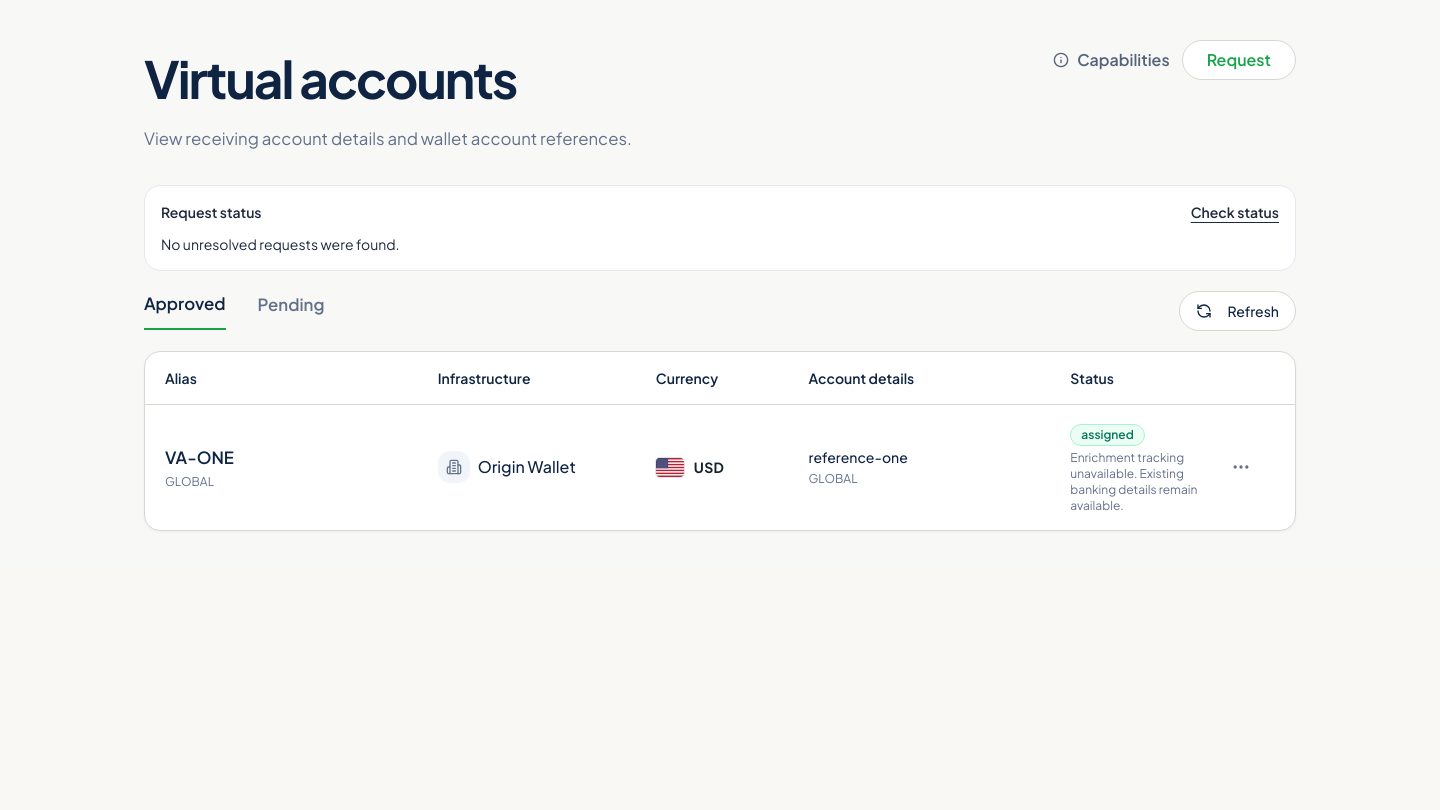
it: VA list and live banking details › keeps legacy details readable with enrichment null
What coordinates should you click on to do the following:
click the button named "View banking details for USD account 87"
I would click on:
 (1241, 467)
Its box is [1223,449,1259,485].
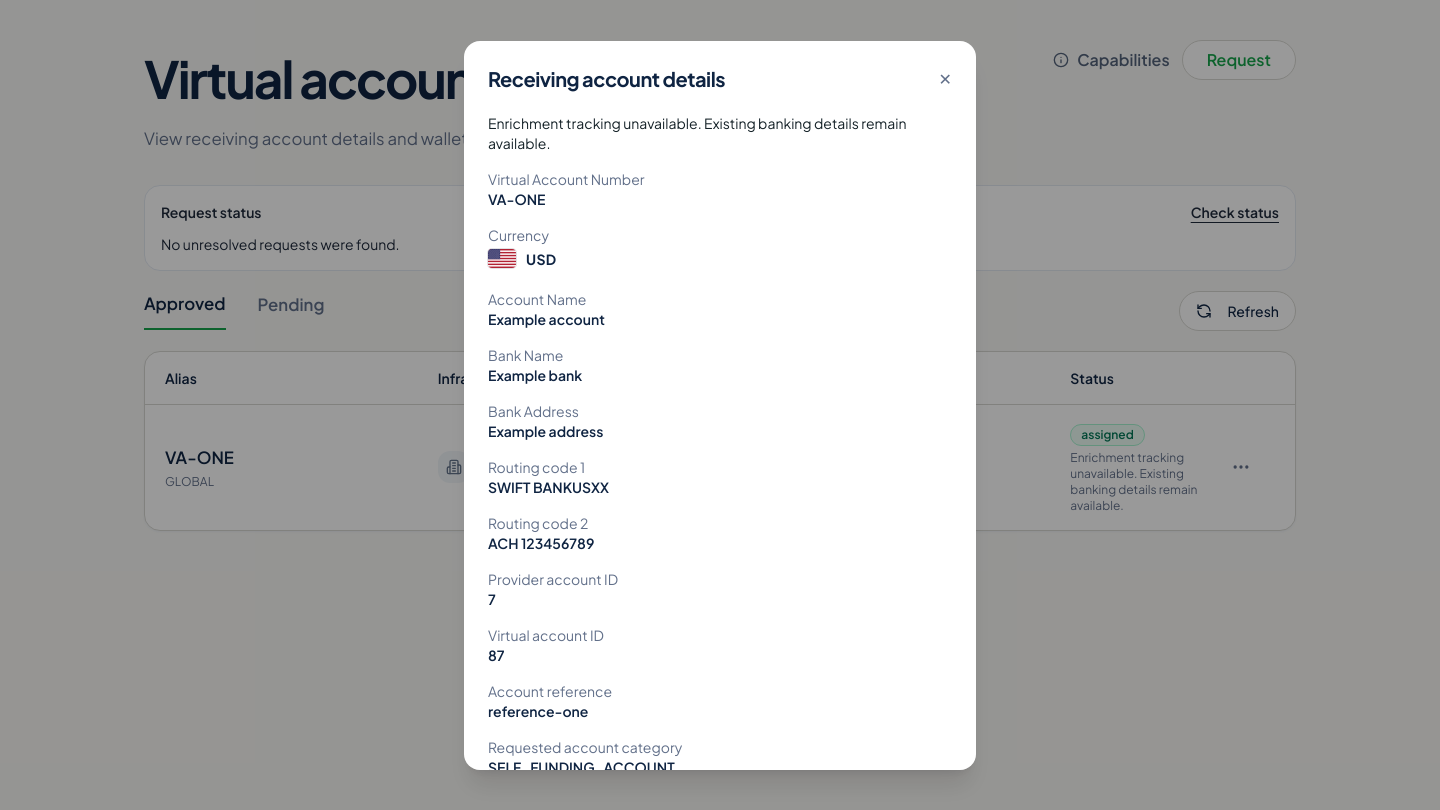
Expected: the text "Enrichment tracking unavailable. Existing banking details remain available." is shown, [488,112,952,152]
Expected: the text "Example bank" is shown, [488,366,582,384]
